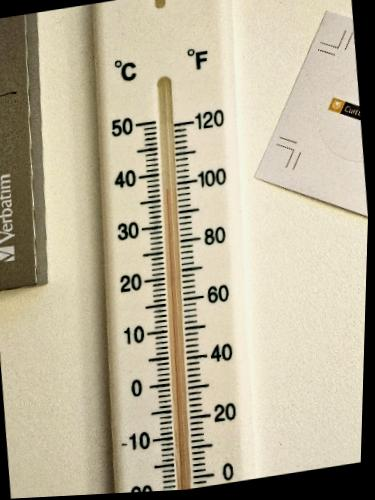thermo: (90, 0, 257, 493)
